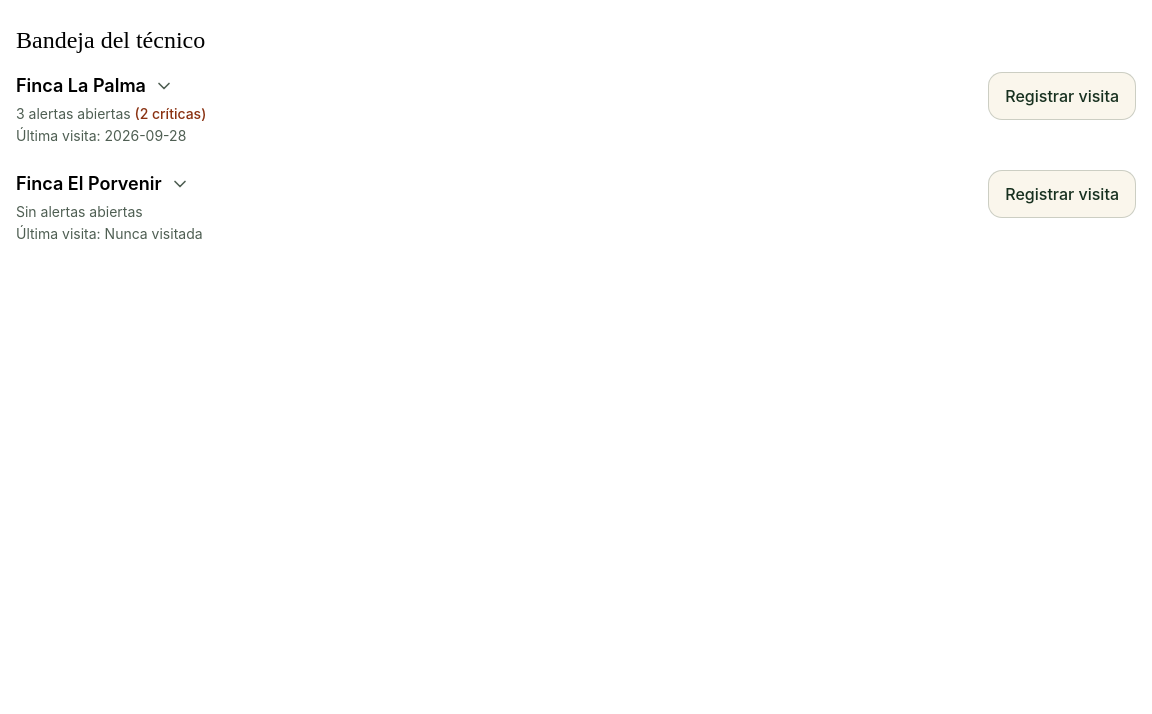
Test: TrayScreen › opens NewVisitSheet for the specific farm when clicking "Registrar visita"
The width and height of the screenshot is (1152, 714).
Check: the heading "Finca La Palma" is shown, box [16,72,146,100]
Click the 1st button "Registrar visita" at [1062, 96], box [988,72,1136,120]
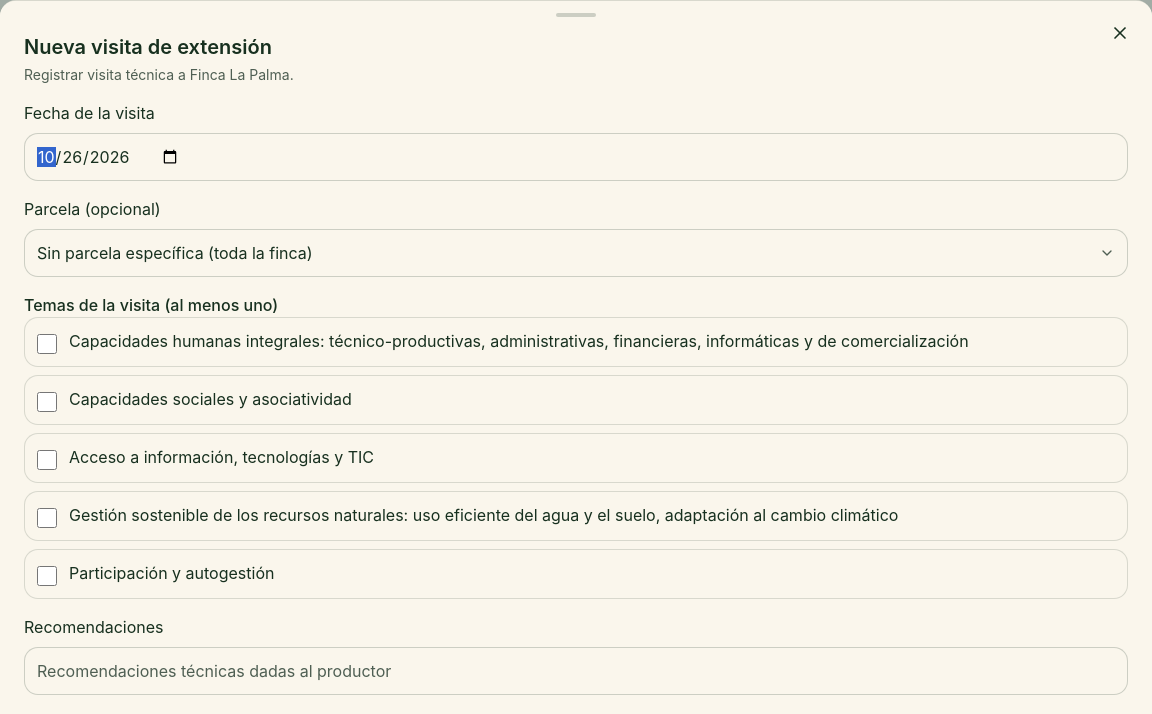
Check: the heading "Nueva visita de extensión" is shown, box [24,35,272,59]
Check: the text "Registrar visita técnica a Finca La Palma." is shown, box [24,66,294,83]
